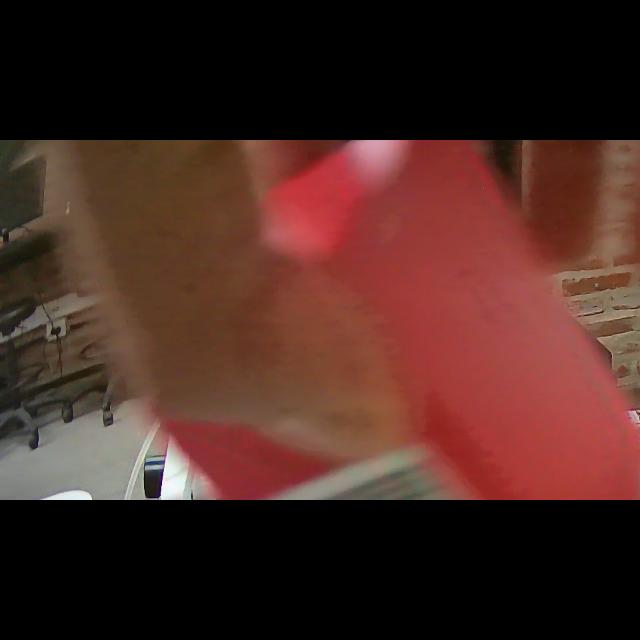greenBox: (588, 494, 640, 500)
redBox: (139, 140, 637, 500)
